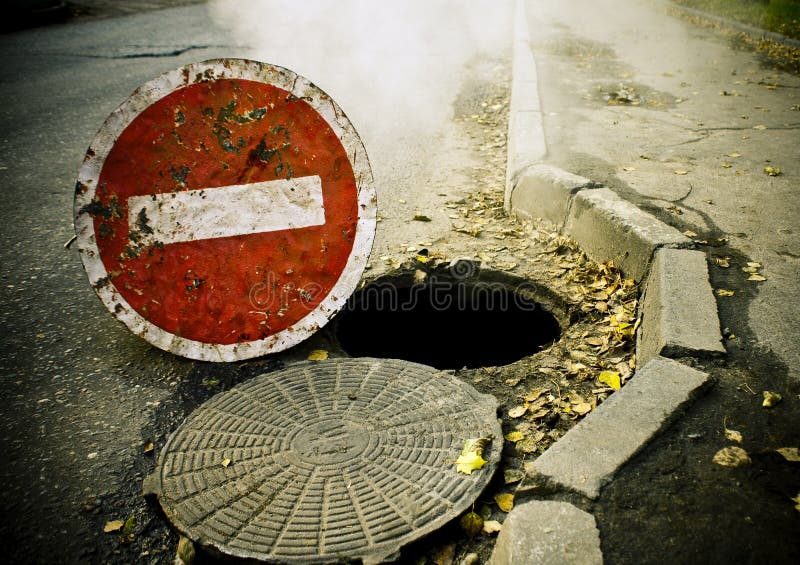Open_manhole: (152, 232, 584, 549)
